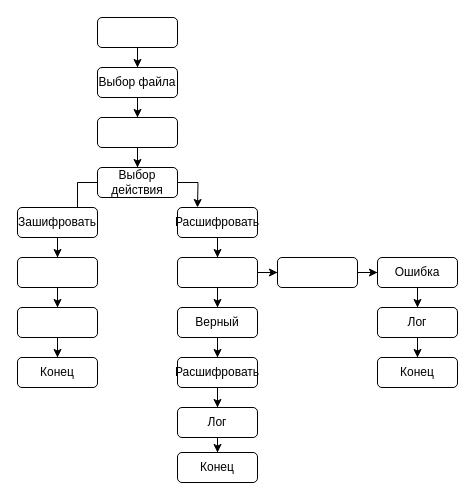
This 475x500 diagram has some shape labels left out. The shapes that lost their labels are listed below. From the top down, each one's centre as x and y in pixels, then its label:
At point (137, 32): "Старт".
At point (137, 132): "Ввод пароля".
At point (57, 272): "Шифрование".
At point (217, 272): "Проверка пароля".
At point (317, 272): "Неверный".
At point (57, 322): "Запись в лог".
